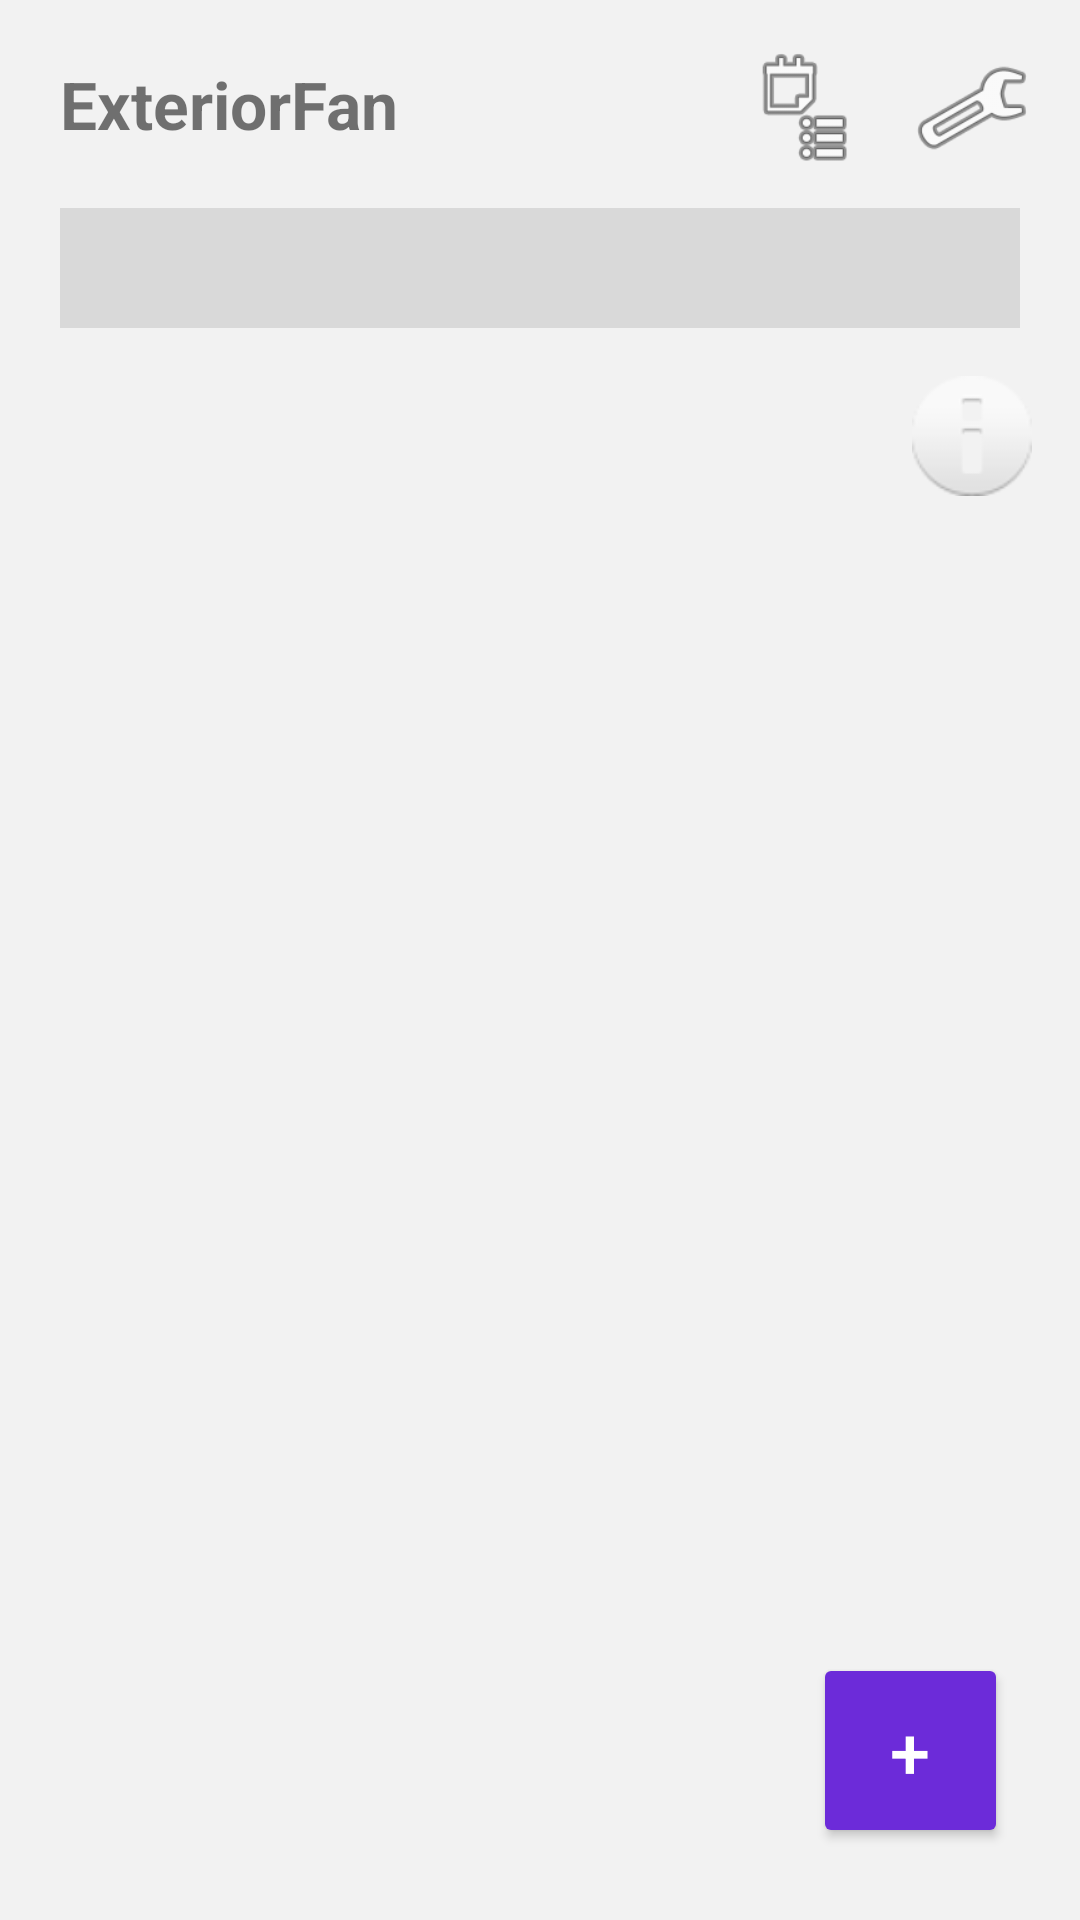

Where to tap for icons on this 1080×1920 app screen, as [x,y]:
Configuración: [972,108]
Lista de salidas: [804,107]
